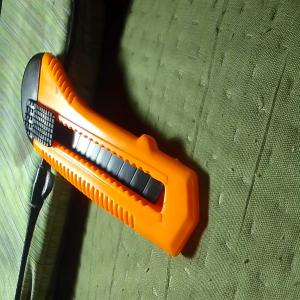estilete: (19, 48, 202, 259)
